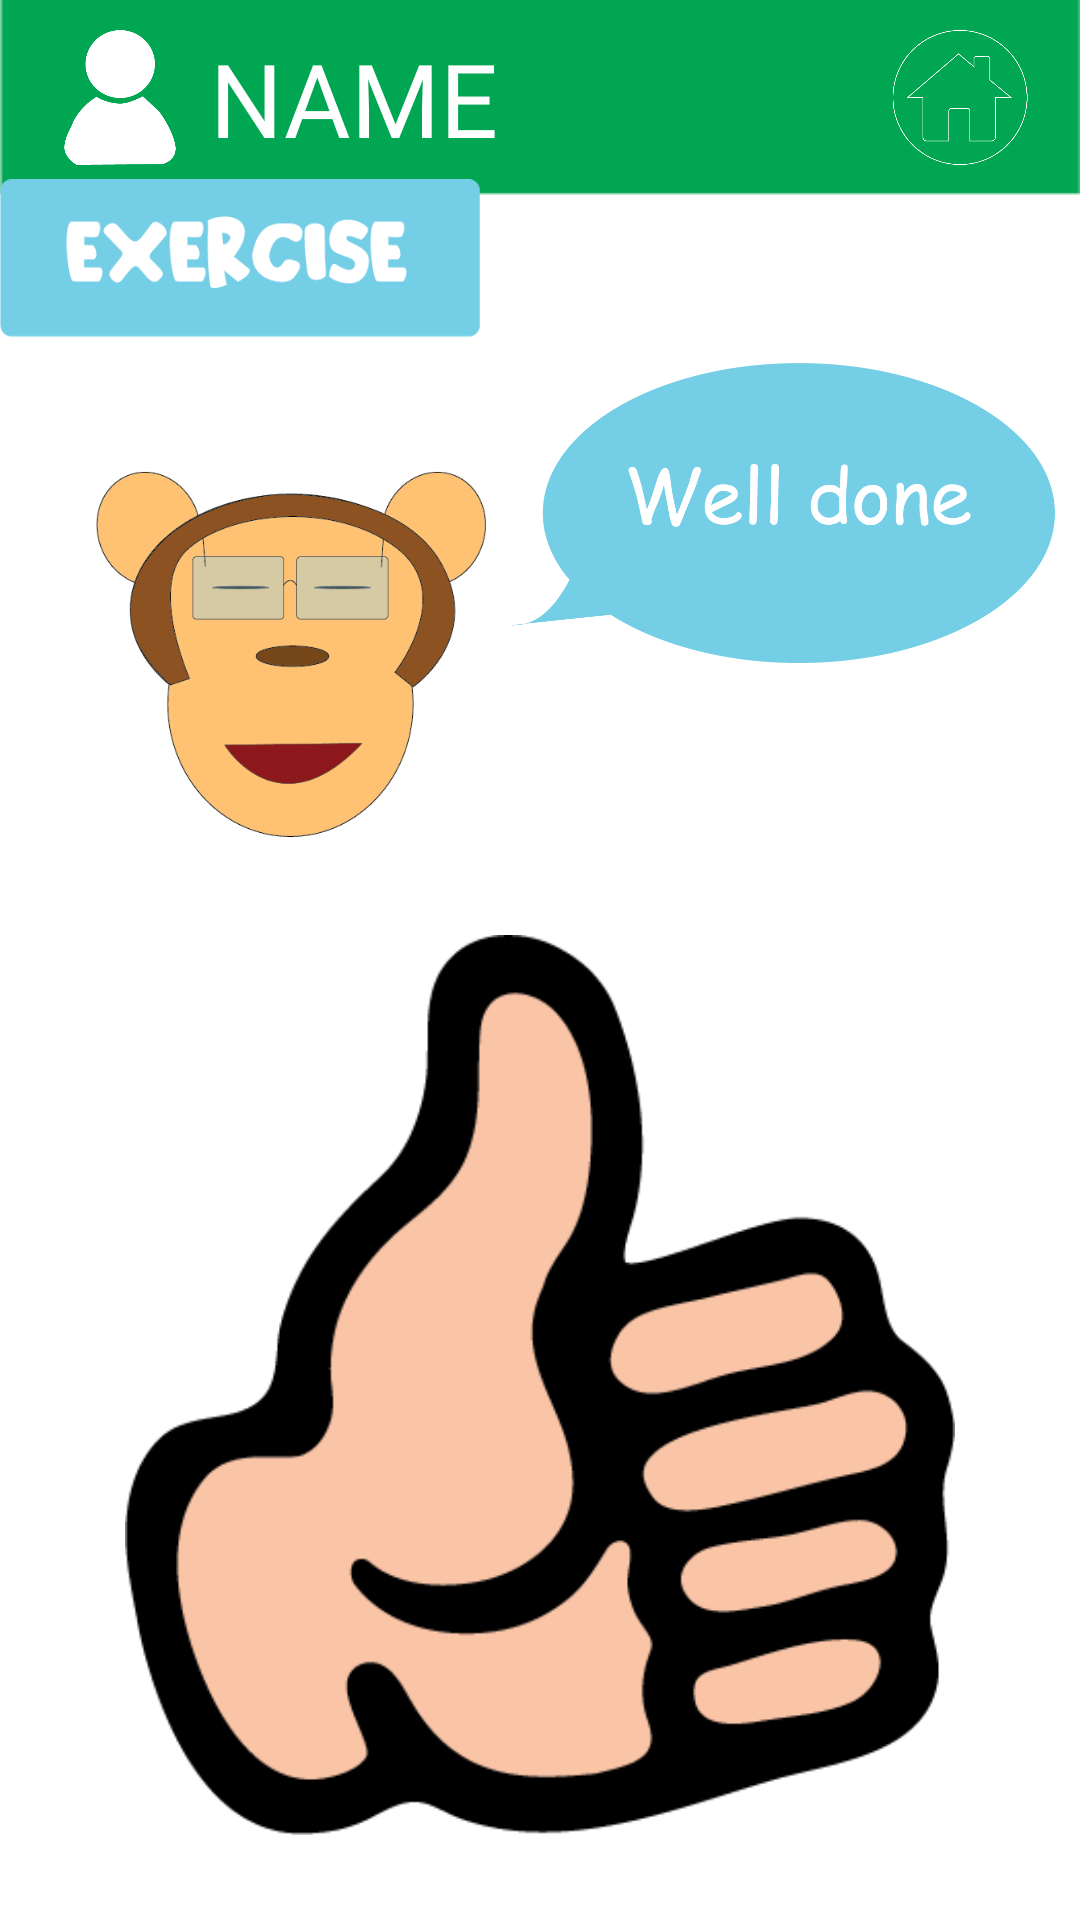

Where icons sit on this 1080w x 1920h app screen, as {"left": x1, "top": y1, "right": x2, "bottom": y2}:
homepage: {"left": 893, "top": 30, "right": 1028, "bottom": 165}
